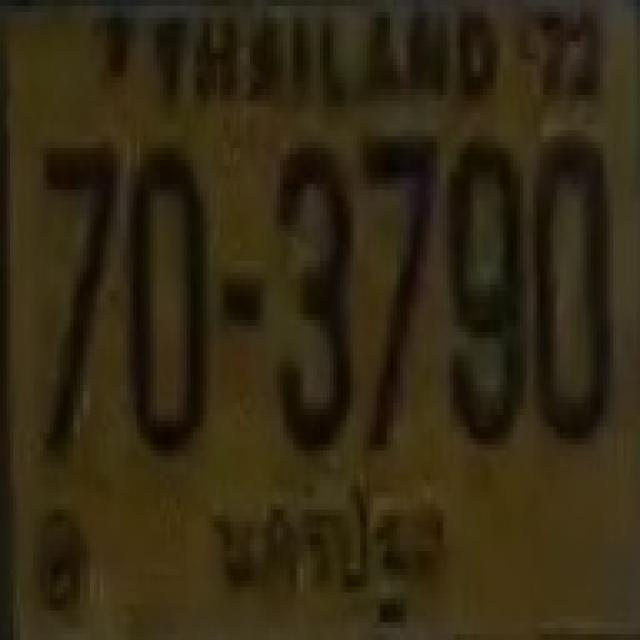0: (530, 130, 610, 438), (125, 142, 205, 450)
3: (273, 136, 350, 444)
7: (360, 130, 433, 444), (40, 140, 113, 453)
9: (445, 134, 522, 442)
NPT: (201, 488, 455, 640)
